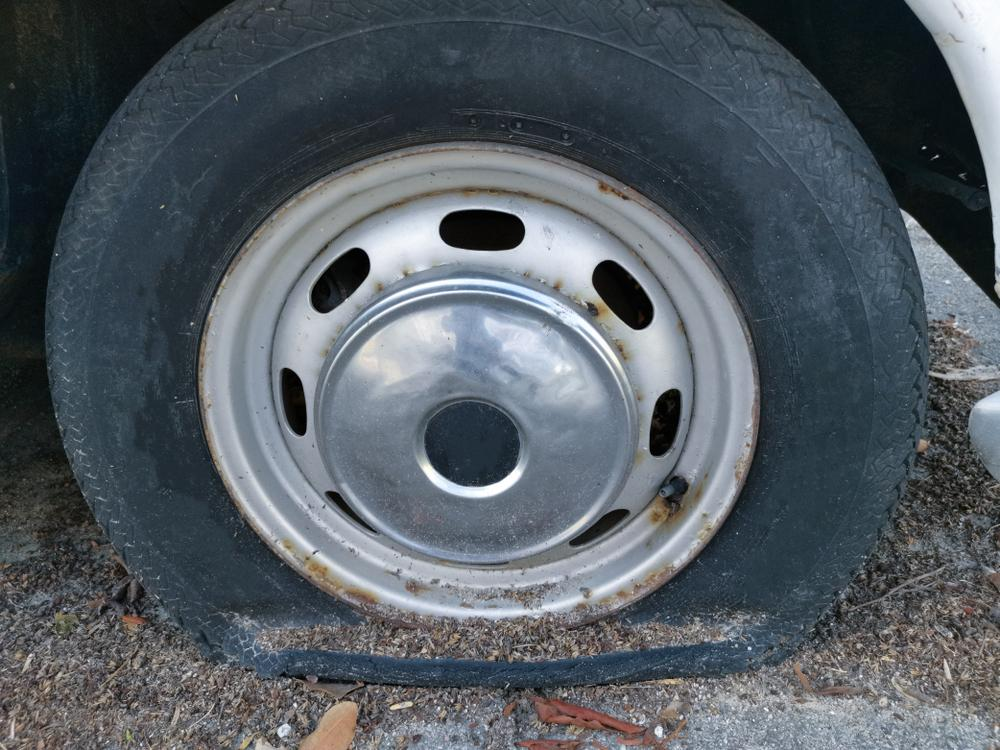tire flat: (45, 0, 929, 694)
